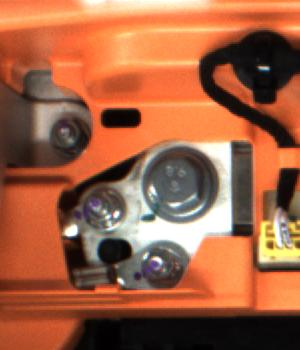nut_b: (142, 144, 216, 222)
screw_s: (81, 187, 120, 231), (142, 244, 178, 286), (47, 116, 84, 155)
